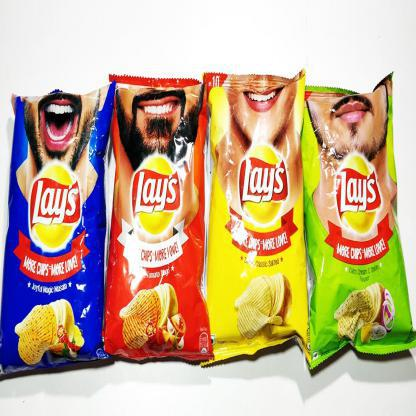classicsalted: (209, 83, 306, 349)
cream_and_onion: (303, 92, 408, 354)
indian_magic_masala: (2, 97, 104, 359)
tangy_tomato: (112, 81, 207, 357)
